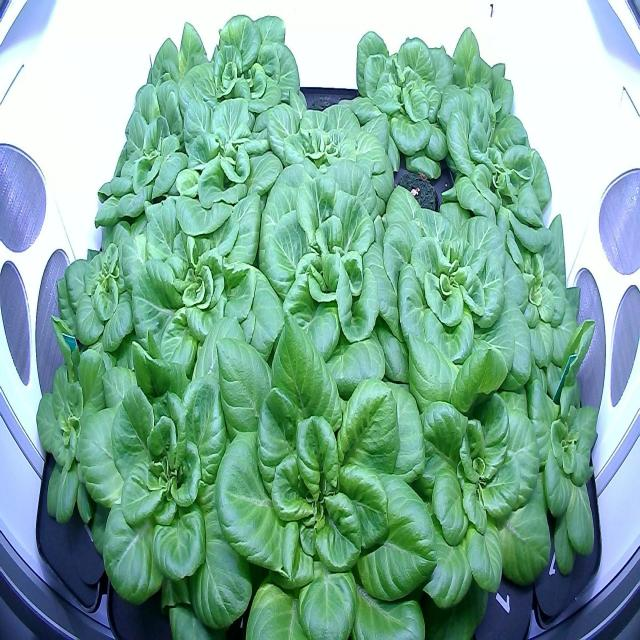germination: (388, 167, 442, 233)
pod: (304, 89, 347, 149)
young: (200, 307, 440, 637), (77, 350, 269, 636), (255, 154, 420, 395), (398, 362, 553, 615), (376, 181, 536, 405), (126, 191, 286, 398), (472, 201, 592, 413), (504, 358, 604, 585), (26, 331, 137, 535), (439, 76, 559, 256), (85, 75, 209, 247), (258, 92, 399, 232), (48, 212, 170, 371), (351, 17, 461, 179), (160, 91, 290, 228), (177, 9, 304, 132), (423, 17, 525, 168), (124, 17, 226, 164)
